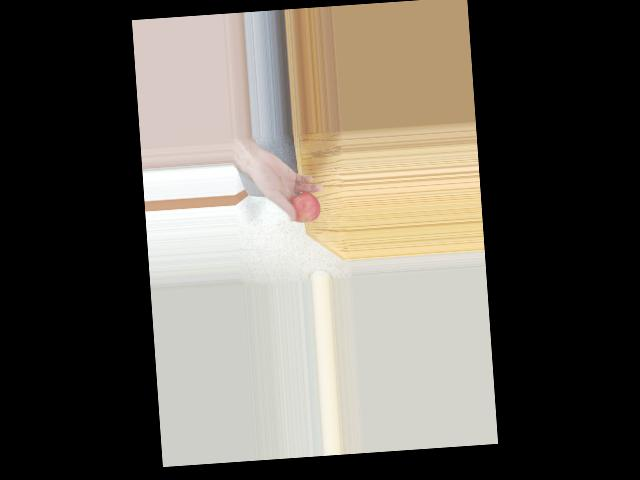apple: (289, 189, 322, 226)
